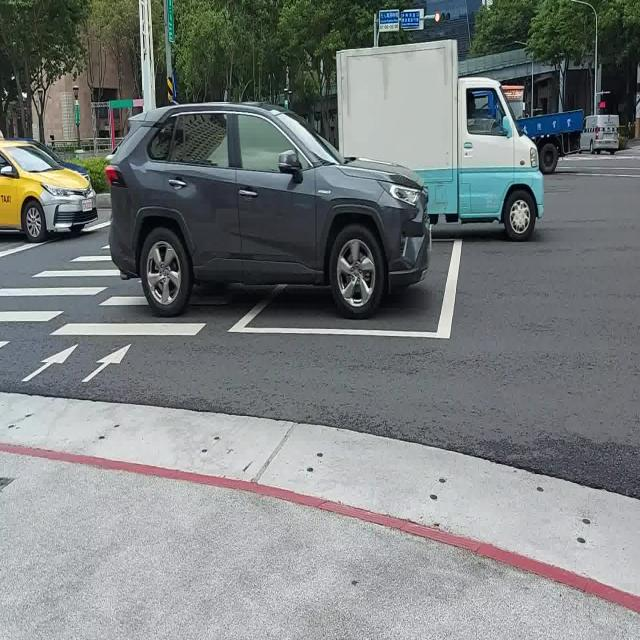car: (109, 102, 431, 318), (0, 140, 98, 242), (580, 113, 619, 153)
crosswalk: (0, 242, 120, 349), (51, 294, 230, 335)
trunk: (336, 40, 544, 239), (518, 109, 582, 173)
